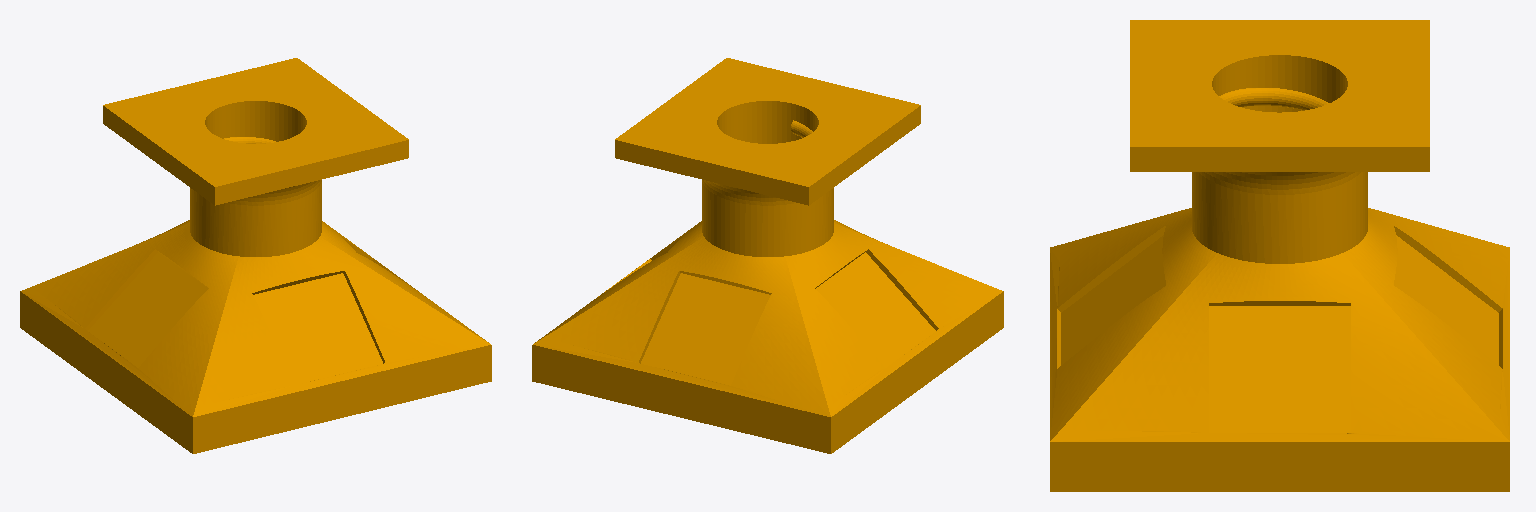
URDF robot description (lamp_base):
<?xml version="1.0"?>
<robot name="lamp_base">
  <link name="lamp_base">
    <visual>
      <origin xyz="0 0 0" rpy="0 0 0"/>
      <geometry><mesh filename="lamp_base_canonical.obj" scale="1 1 1"/></geometry>
    </visual>
    <collision>
      <origin xyz="0 0 0" rpy="0 0 0"/>
      <geometry><mesh filename="lamp_base_canonical.obj" scale="1 1 1"/></geometry>
    </collision>
    <inertial><density value="800.0"/></inertial>
  </link>
</robot>

--- Facts derived from the render (not from the file) ---
3 views of the same robot in one strip: view 1: azimuth 30°, elevation 25°; view 2: azimuth 150°, elevation 25°; view 3: azimuth 270°, elevation 25° (orthographic).
Robot: lamp_base — 1 links, 0 joints (none); root link lamp_base; default pose: all joints at 0.
Links seen in each view (by area): view 1: lamp_base; view 2: lamp_base; view 3: lamp_base.
Boxes of the visible links, x1,y1,x2,y2 form: lamp_base: (20,58,491,453); lamp_base: (532,58,1003,453); lamp_base: (1050,20,1509,491).
Size in the robot's own frame: 0.0847 by 0.0847 by 0.063 metres.
Meshes: 1 distinct files referenced, 1 mesh visuals loaded (1 OBJ).
